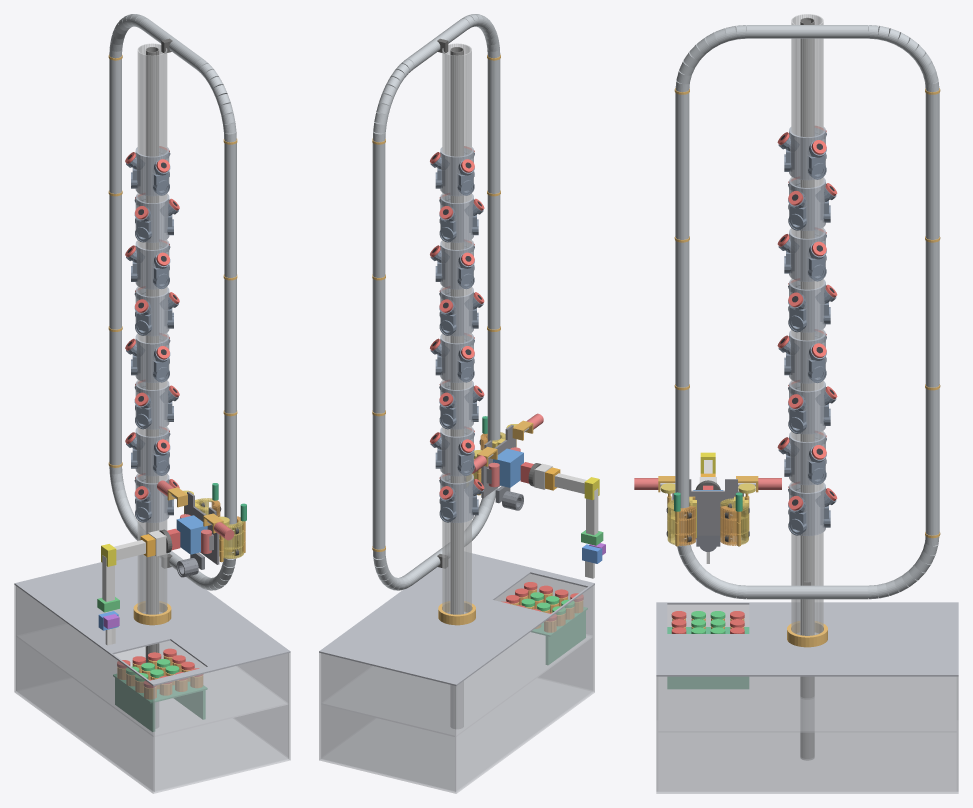
Rendered from reach-test-result-v1.glb.
3 views of the same model, side by side, from view 1: azimuth 30°, elevation 25°; view 2: azimuth 150°, elevation 25°; view 3: azimuth 270°, elevation 25° (orthographic). The views are drawn at different scales.
Size of the model in its own units: 0.483 by 1.9 by 0.751.
